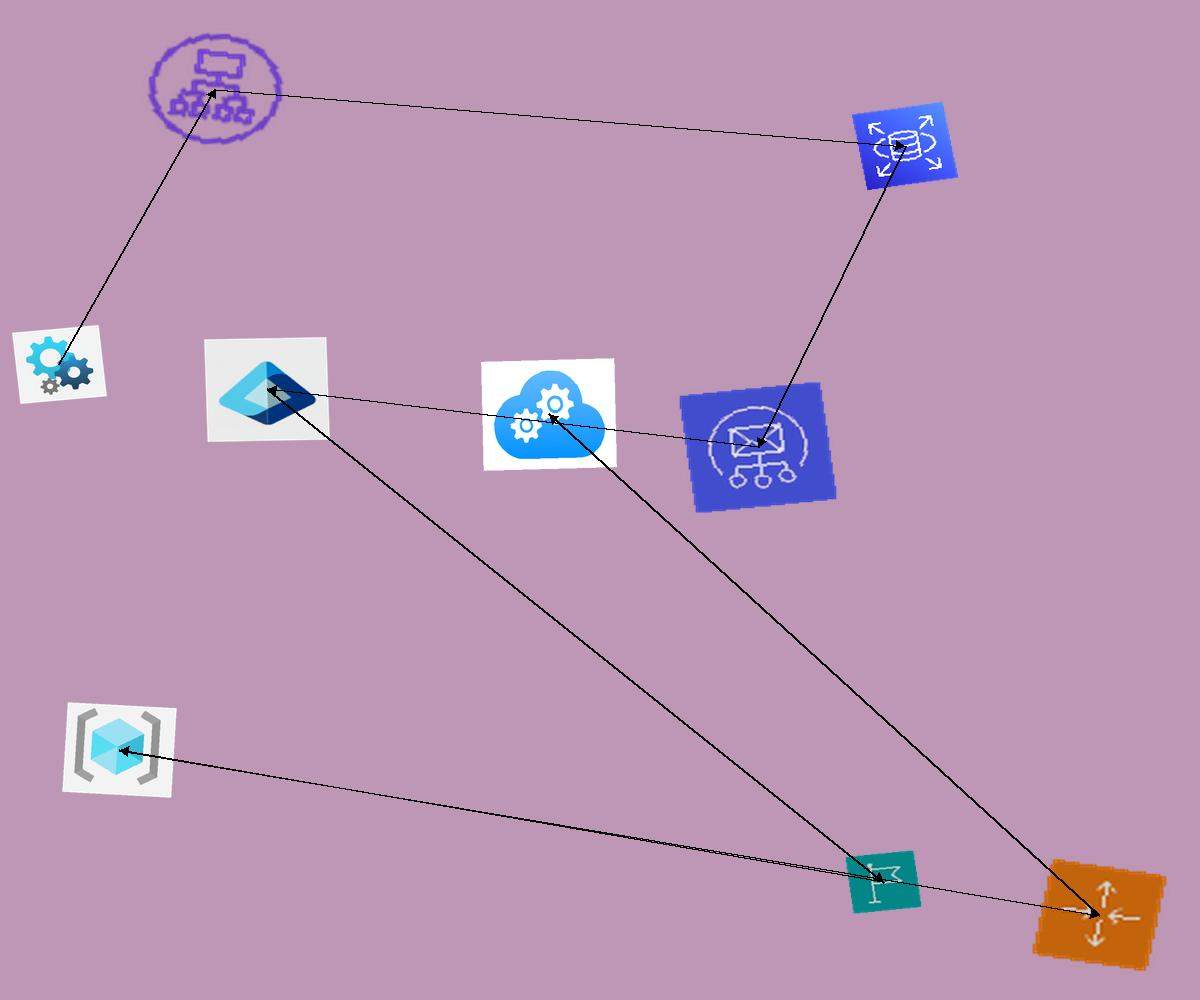AWS-RDS: (851, 101, 959, 191)
AWS-Region: (845, 850, 922, 914)
AWS-Res_Elastic-Load-Balancing_Application-Load-Balancer: (131, 19, 300, 159)
AWS-Scaling-group: (1030, 857, 1169, 973)
AWS-Simple-Email-Service: (678, 381, 838, 514)
Azure_api: (12, 325, 107, 404)
Azure_cloud_services: (481, 358, 617, 471)
Azure_microsoft_entra: (204, 337, 330, 442)
Azure_resource_group: (62, 702, 177, 798)
